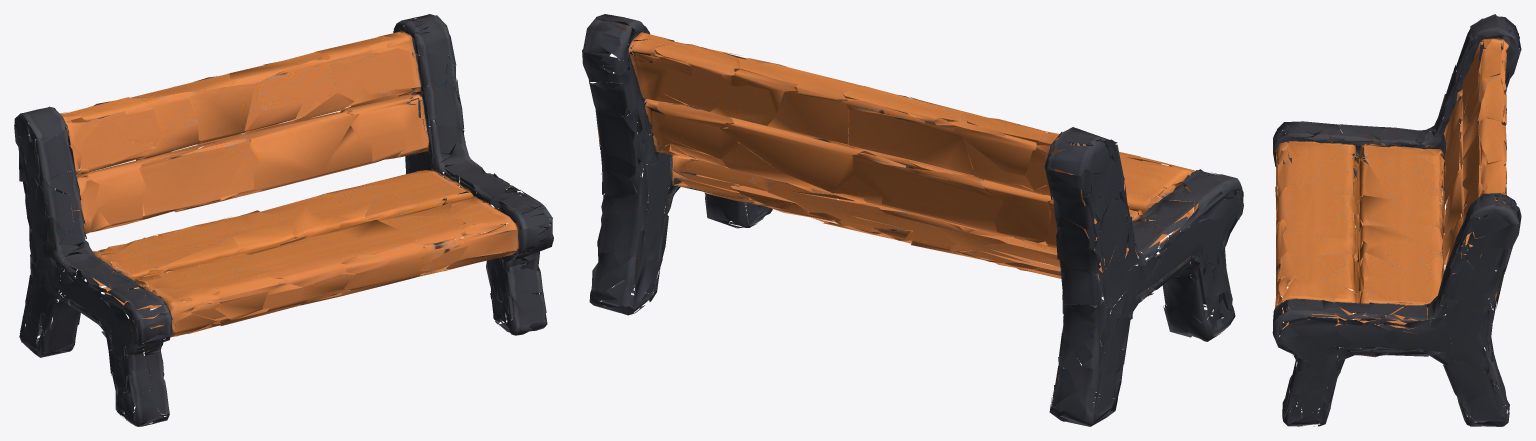
Rendered from bench.glb.
3 views of the same model, side by side, from view 1: azimuth 30°, elevation 25°; view 2: azimuth 150°, elevation 25°; view 3: azimuth 270°, elevation 25° (orthographic). The views are drawn at different scales.
Parts seen in each view (by area): view 1: Mesh_0; view 2: Mesh_0; view 3: Mesh_0.
Boxes of the visible parts, x1,y1,x2,y2 form: Mesh_0: (14,14,553,426); Mesh_0: (582,14,1243,426); Mesh_0: (1272,14,1521,426).
Size of the model in its own units: 1.91 by 1.03 by 1.04.
1 material, 1 textured.
